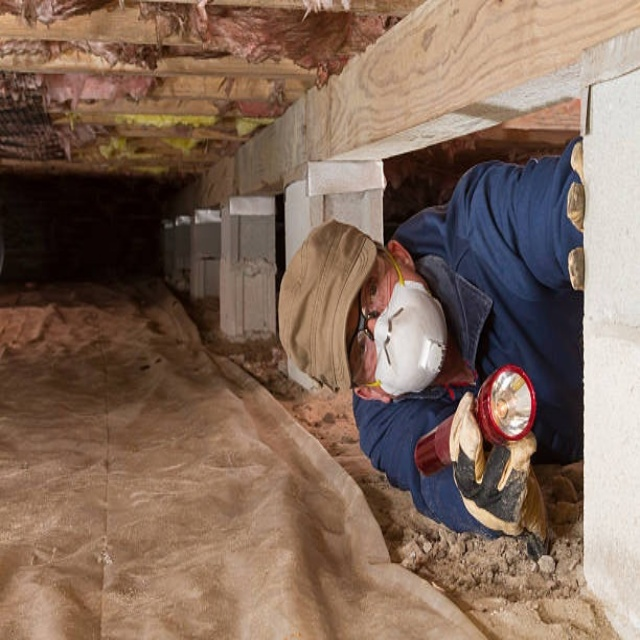Gafas: (354, 255, 391, 380)
Guantes: (448, 389, 545, 542), (557, 130, 585, 298)
Mascara: (369, 280, 448, 396)
